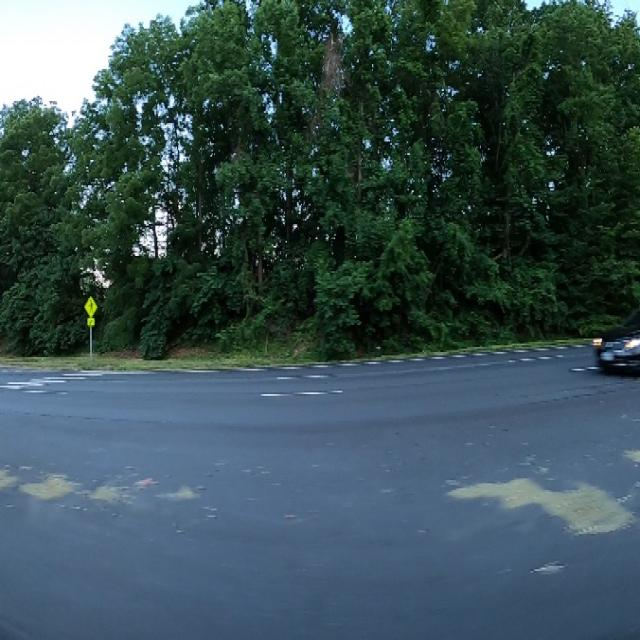cars: (593, 300, 640, 381)
